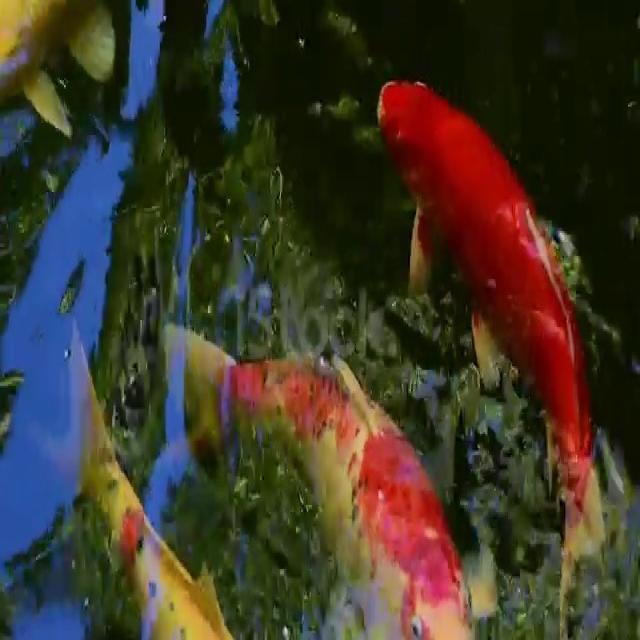fish: (167, 271, 488, 640), (372, 45, 602, 538), (63, 335, 235, 640)
